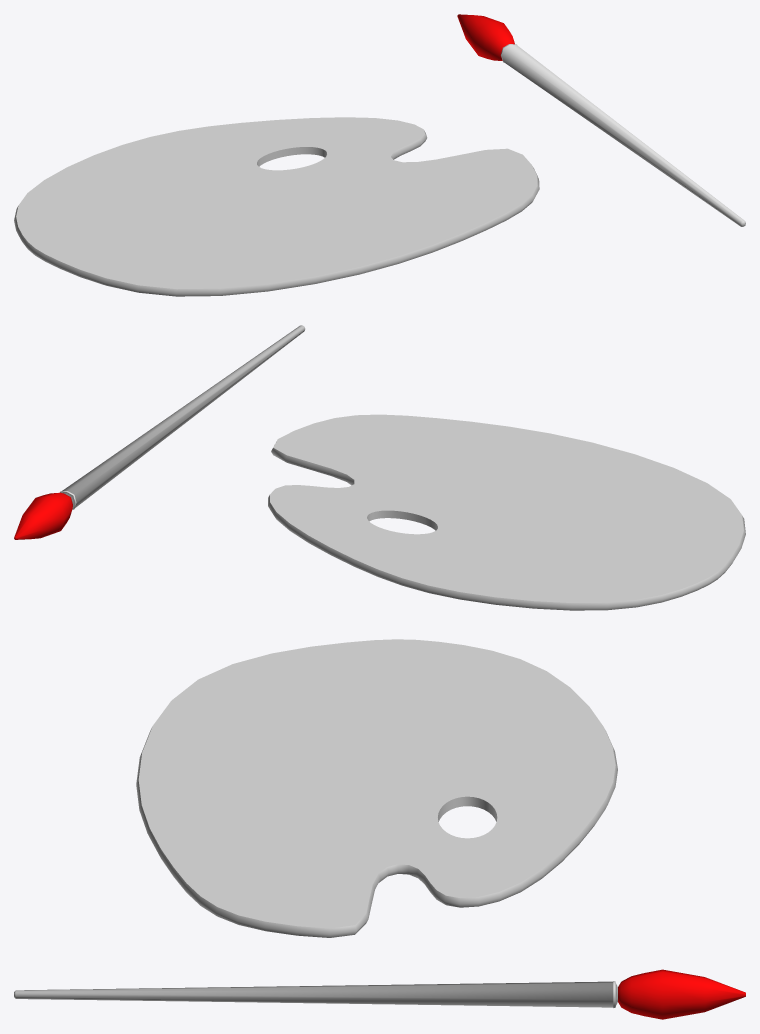
Rendered from paintt.fbx.
3 renders of one model, top to bottom at view 1: azimuth 30°, elevation 25°; view 2: azimuth 150°, elevation 25°; view 3: azimuth 270°, elevation 25°, orthographic. The views are drawn at different scales.
Visible parts, largest first — view 1: palette, brush; view 2: palette, brush; view 3: palette, brush.
Boxes of the visible parts, box(x1,y1,x2,y2) form: palette: box(14, 117, 539, 296); brush: box(457, 14, 745, 226); palette: box(268, 414, 745, 610); brush: box(14, 325, 305, 539); palette: box(136, 639, 617, 937); brush: box(14, 969, 745, 1019).
Size of the model in its own units: 954 by 55.21 by 815.
